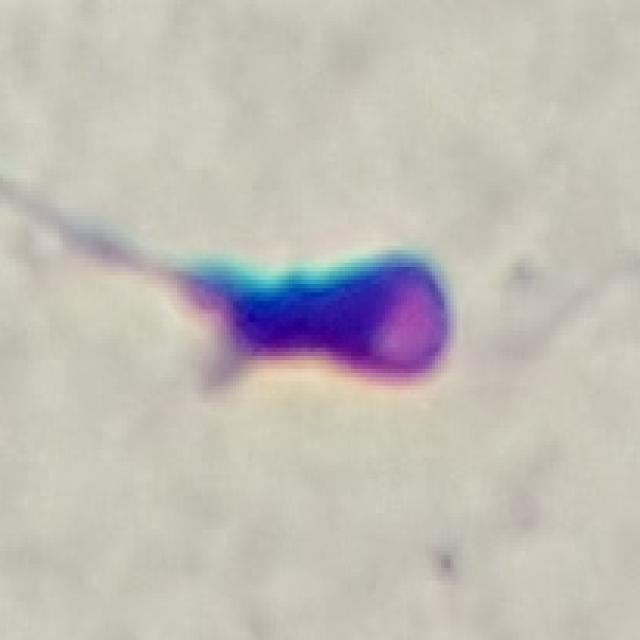abnormal sperm: (4, 155, 458, 397)
